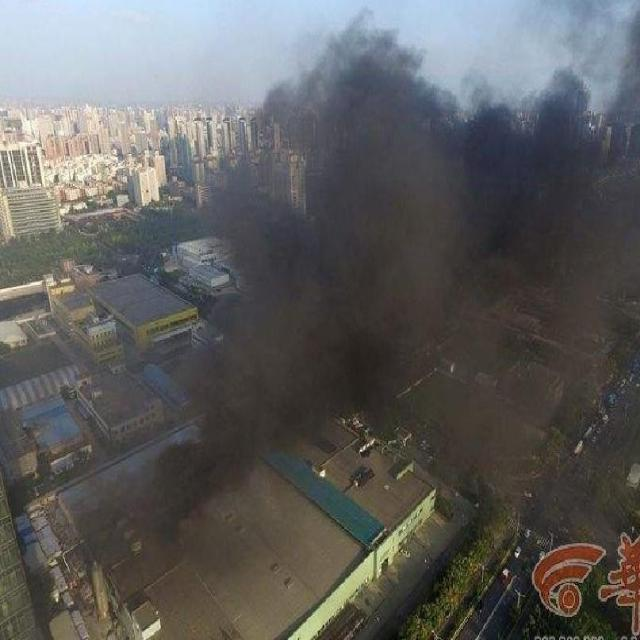Smoke: (153, 1, 640, 549)
